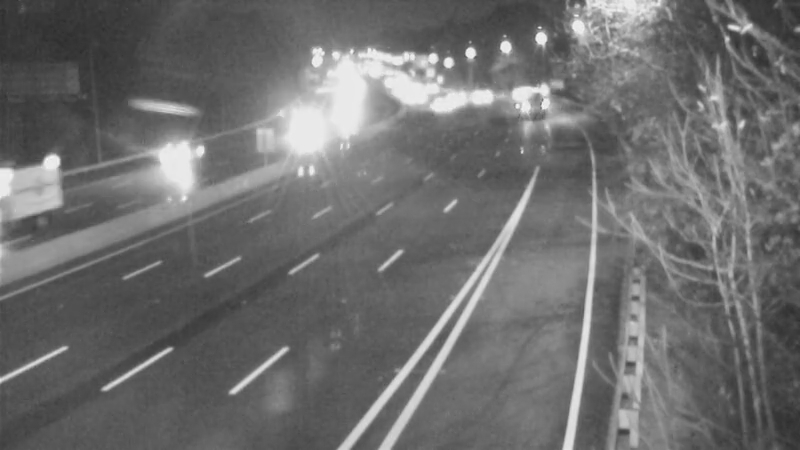vehicle: (131, 120, 211, 200), (1, 167, 74, 247), (453, 61, 503, 111), (434, 68, 484, 118), (505, 65, 555, 115), (272, 107, 322, 157)
